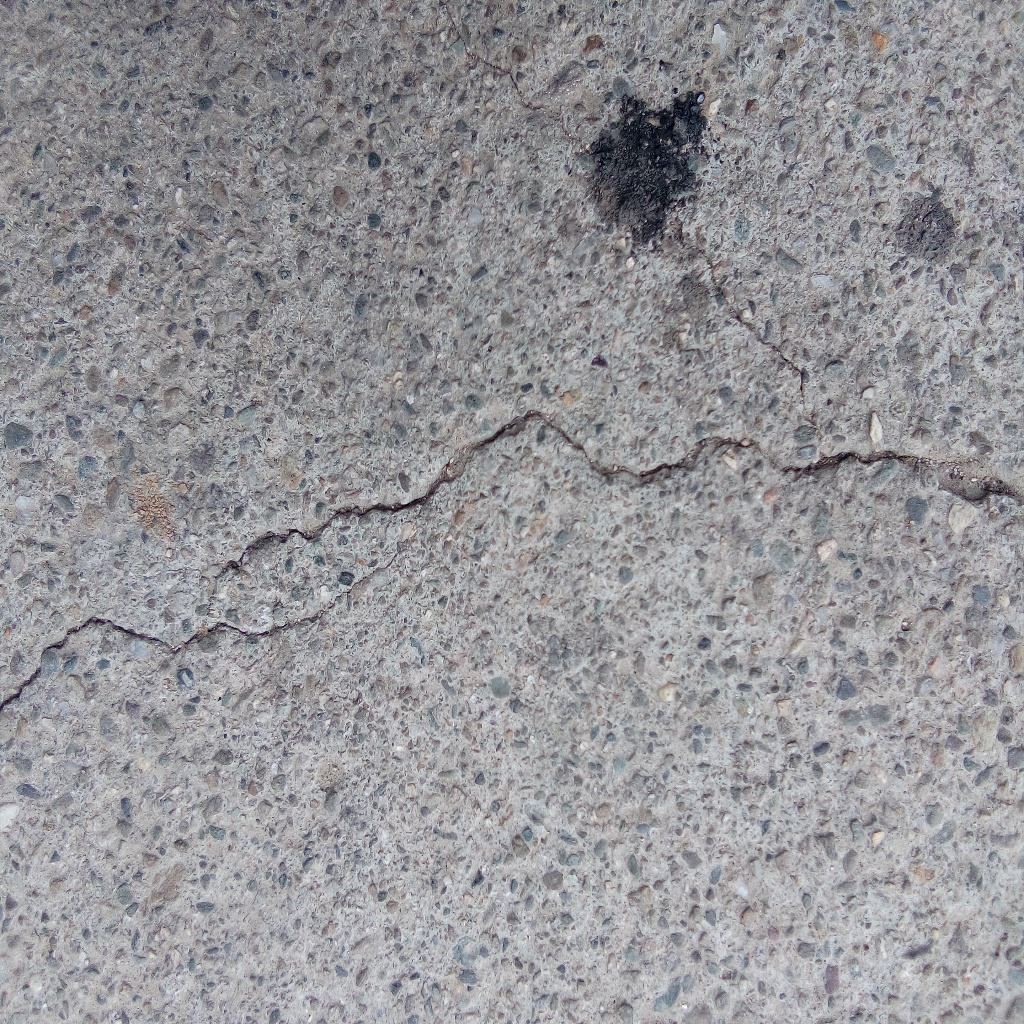Crack: (218, 407, 1024, 578), (1, 552, 401, 712)
